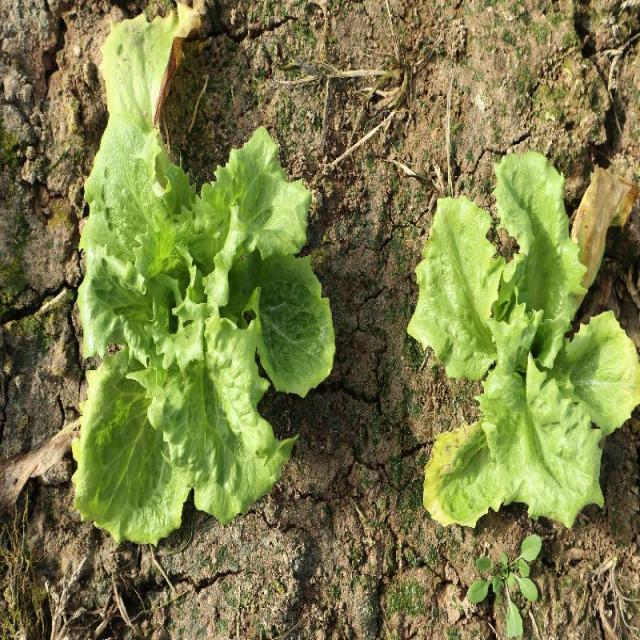crop: (72, 126, 338, 548), (398, 151, 640, 526)
